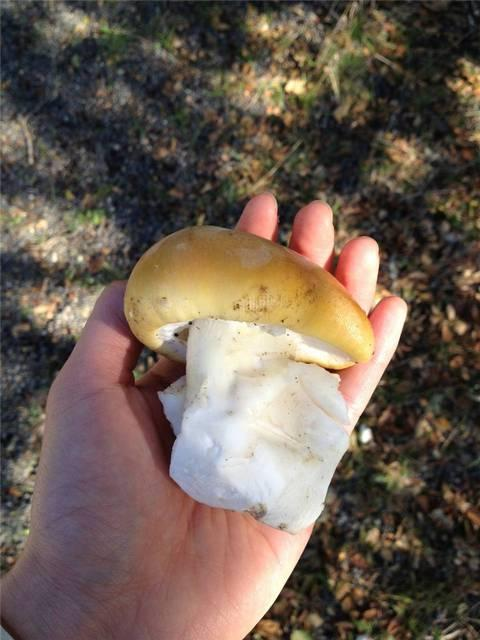edible_mushroom: (122, 223, 376, 535)
